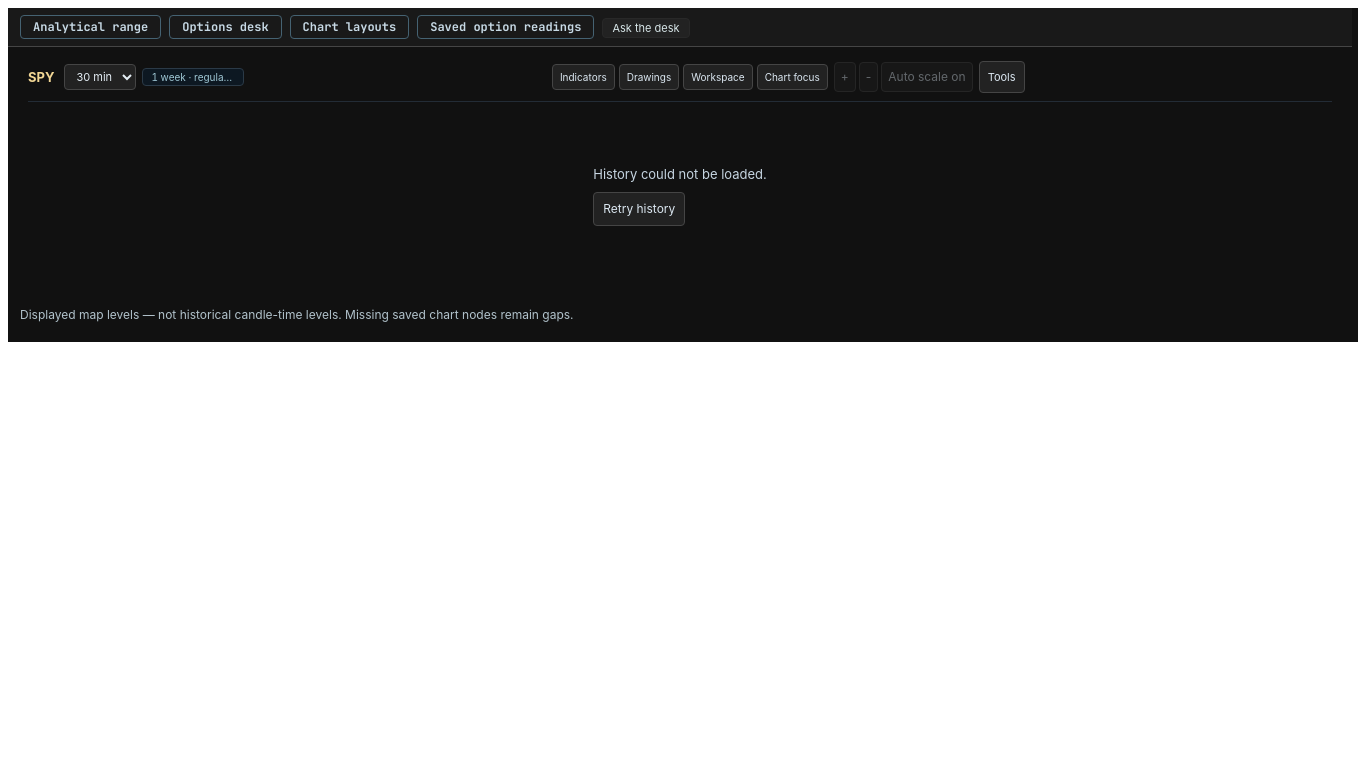
chart layouts are reachable from the normal Stock chart without a hidden browser flag
The image size is (1366, 768).
Step 1. Click the button "Chart layouts" → [349, 27], box [290,15,409,39]
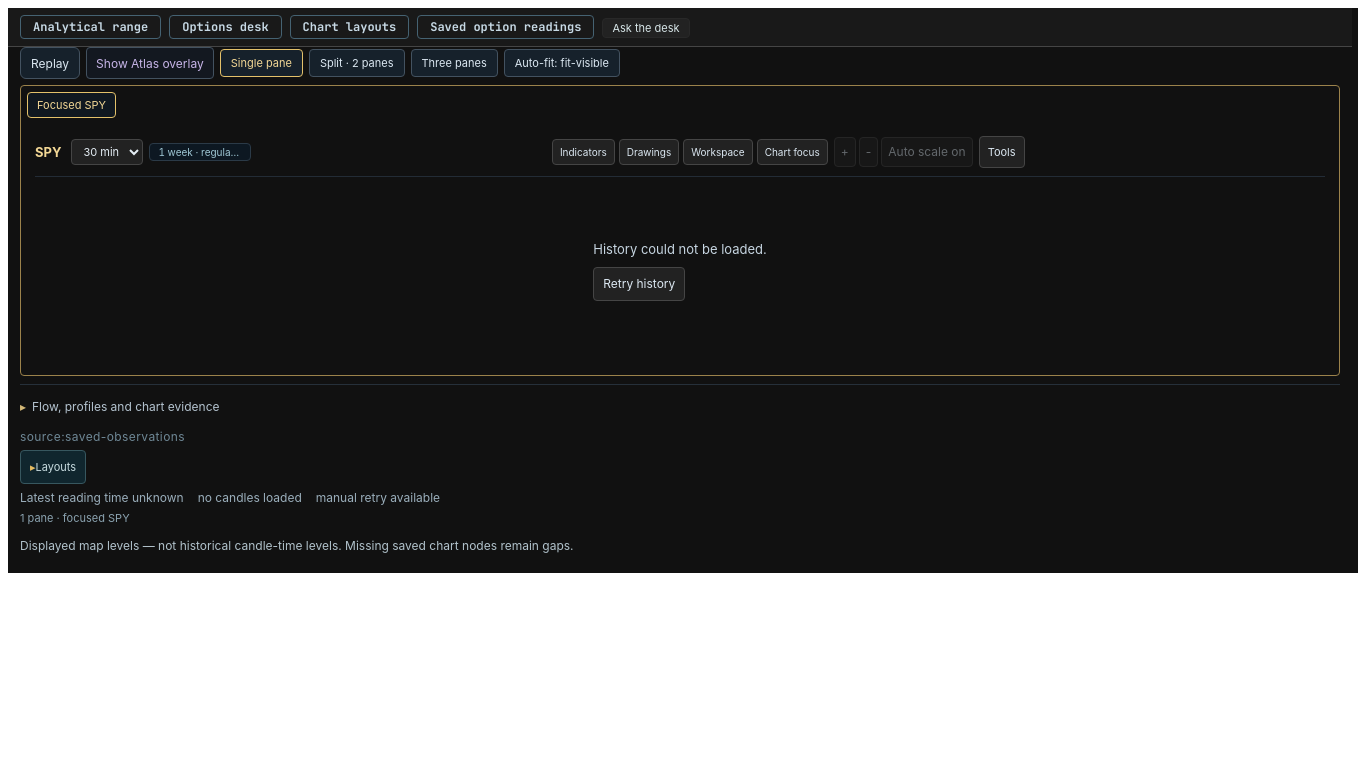
Result: the element with test id "chart-workspace" is shown
Step 2. Click the button "Chart layouts" → [349, 27], box [290,15,409,39]
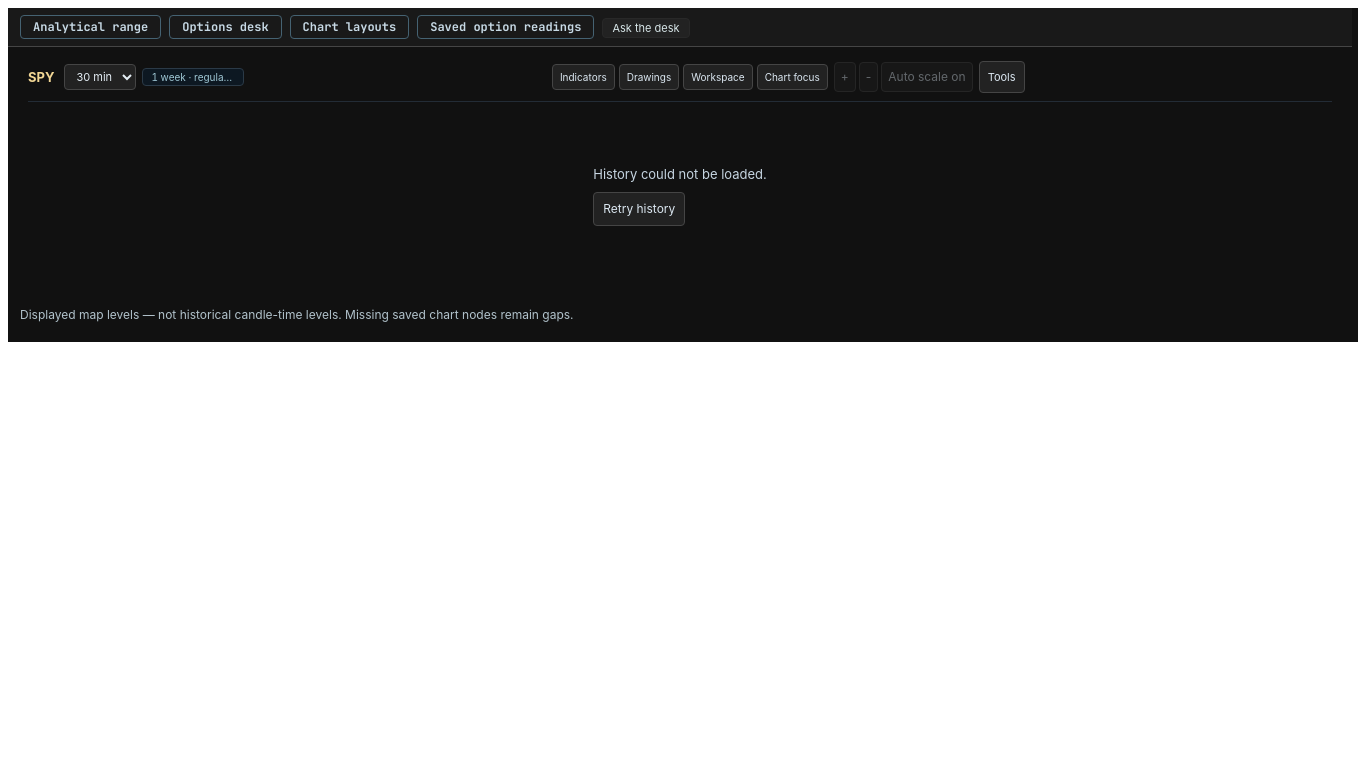
Result: the element with test id "chart-workspace" is gone
